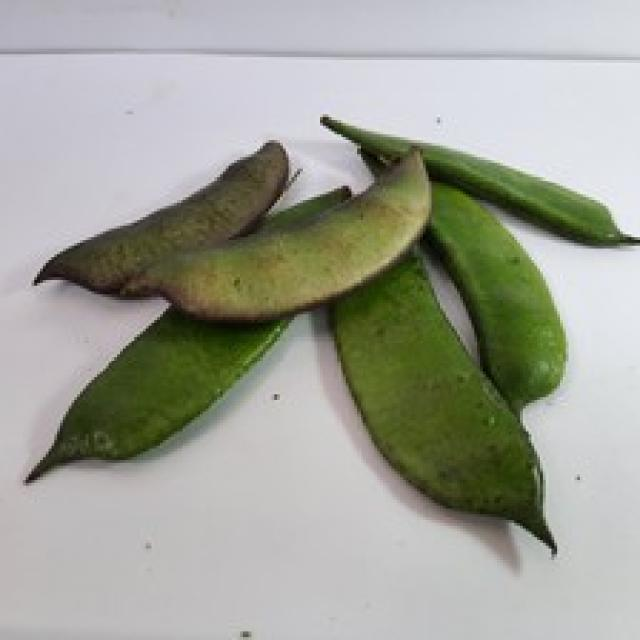Bean: (329, 240, 557, 557), (120, 143, 431, 323), (23, 303, 291, 483), (317, 111, 637, 246), (32, 137, 288, 294), (420, 177, 566, 412)
